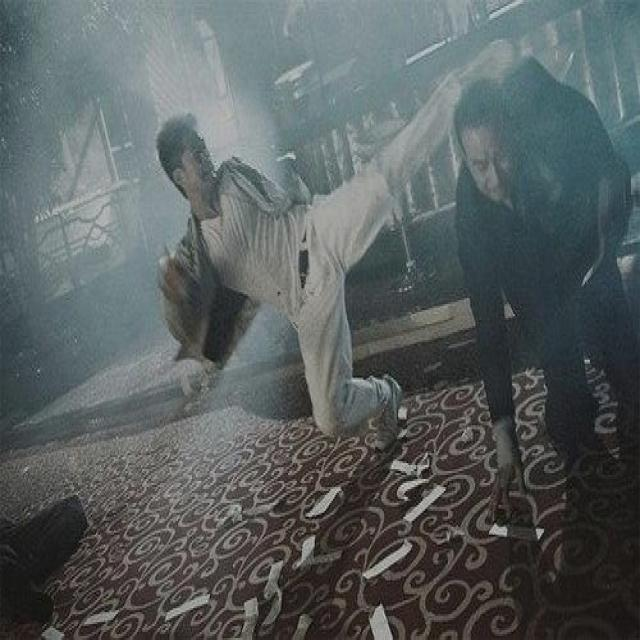fight: (138, 18, 640, 521)
